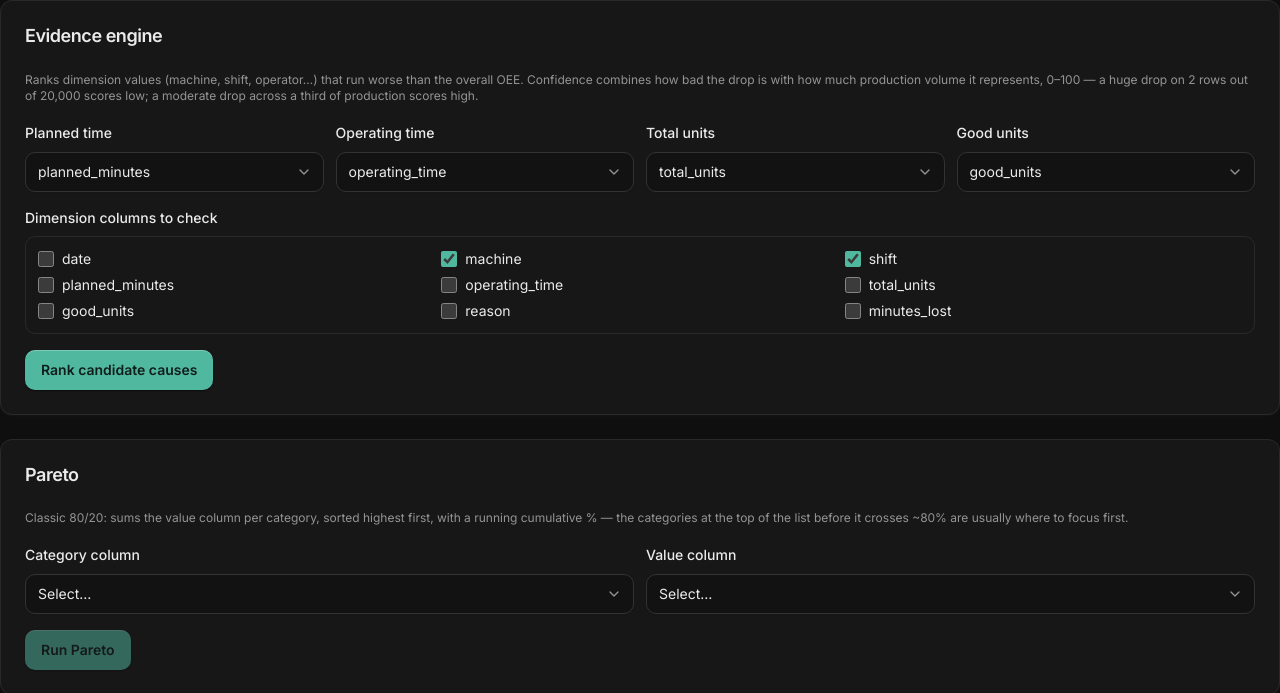
Test: Analysis › disables ranking when no dimension column is checked, and shows evidence errors
Click the checkbox labelled "machine" at (449, 258), box [441, 250, 457, 266]
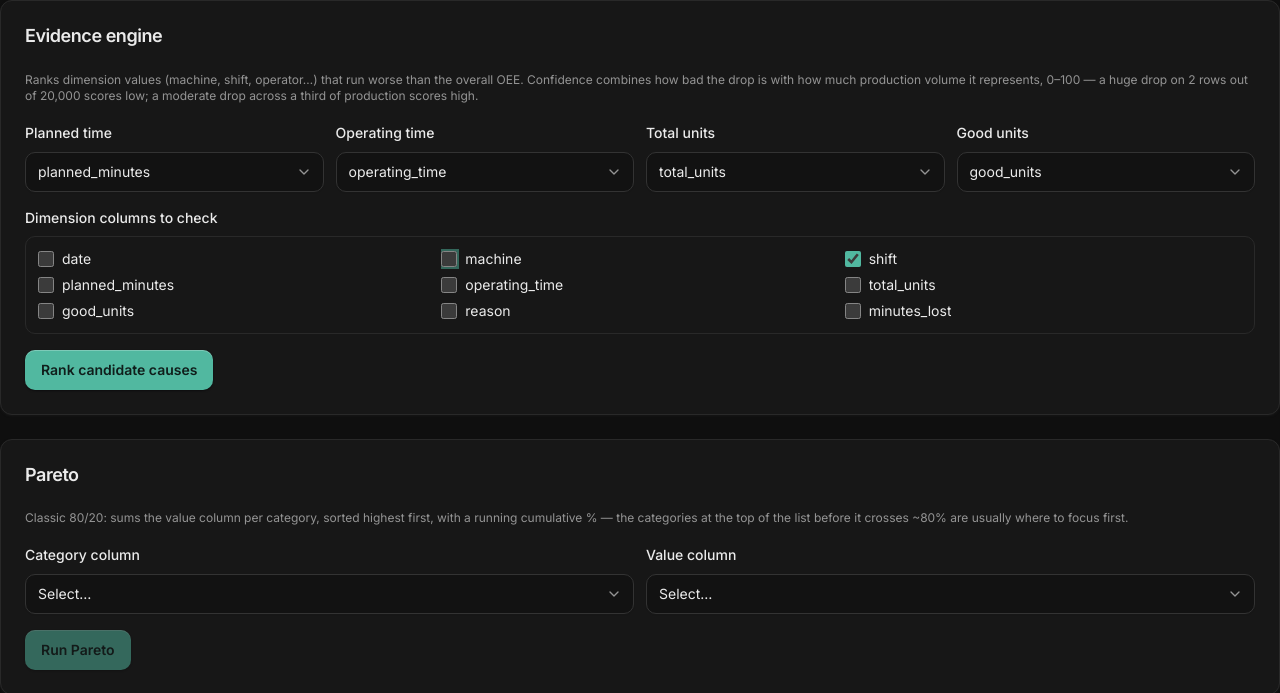
Click the checkbox labelled "shift" at (853, 258), box [845, 250, 861, 266]
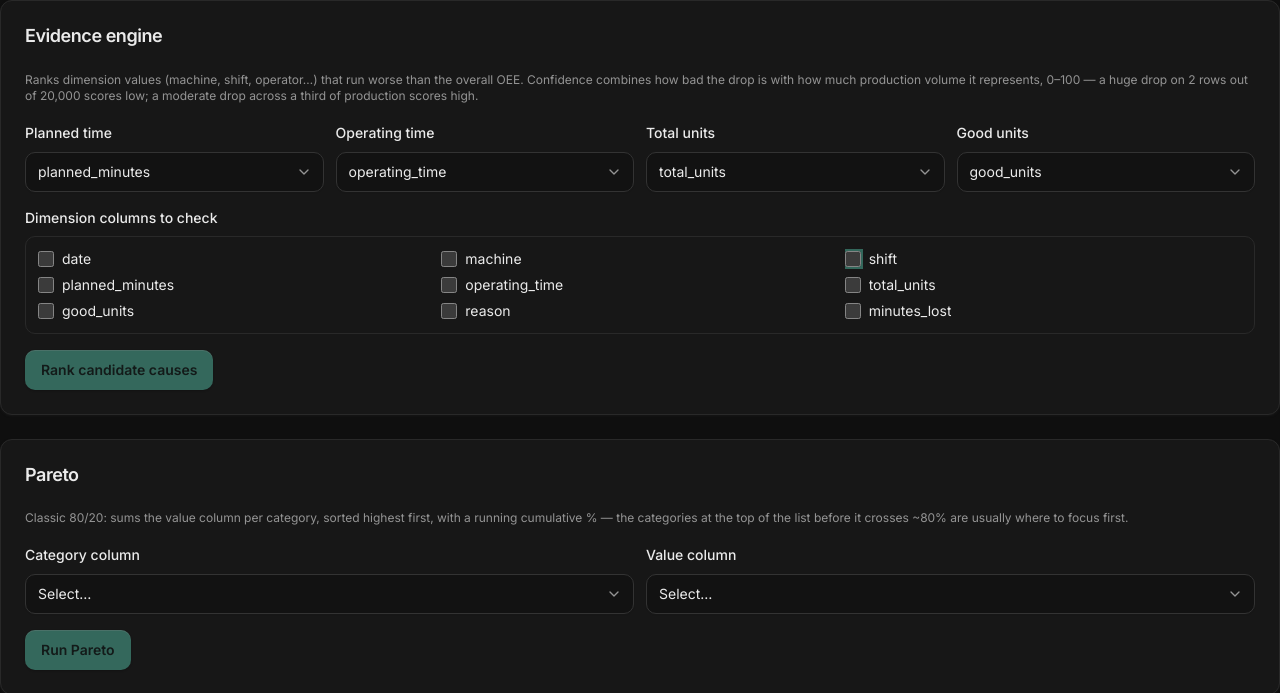
Check: the button "Rank candidate causes" is disabled, box [25, 350, 213, 390]
Click the checkbox labelled "shift" at (853, 258), box [845, 250, 861, 266]
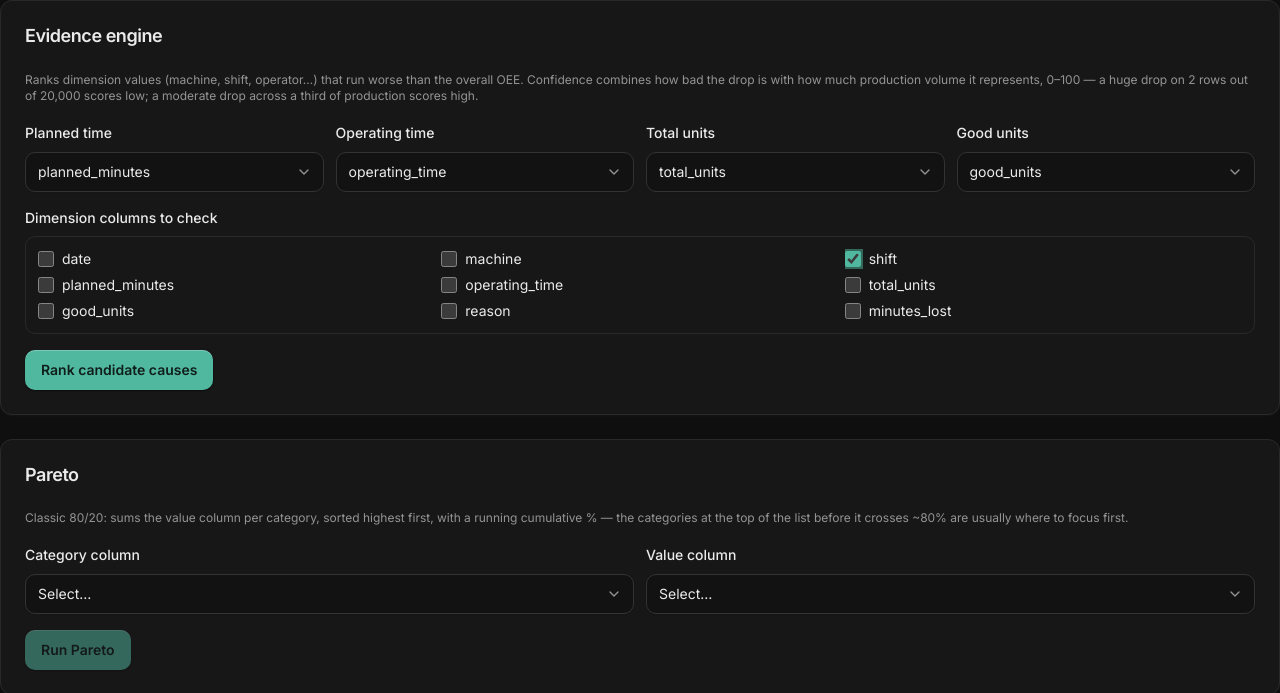
Check: the button "Rank candidate causes" is enabled
Click the button "Rank candidate causes" at (119, 370), box [25, 350, 213, 390]
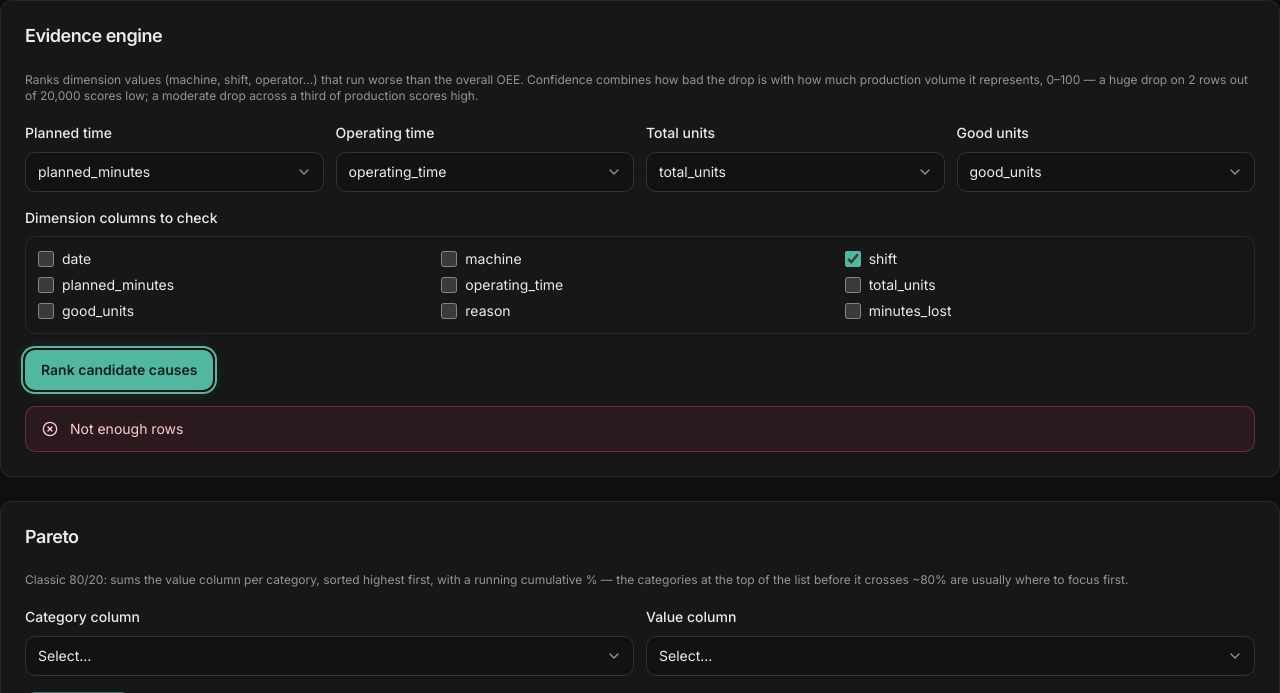
Check: the text "Not enough rows" is shown, box [70, 418, 183, 438]
